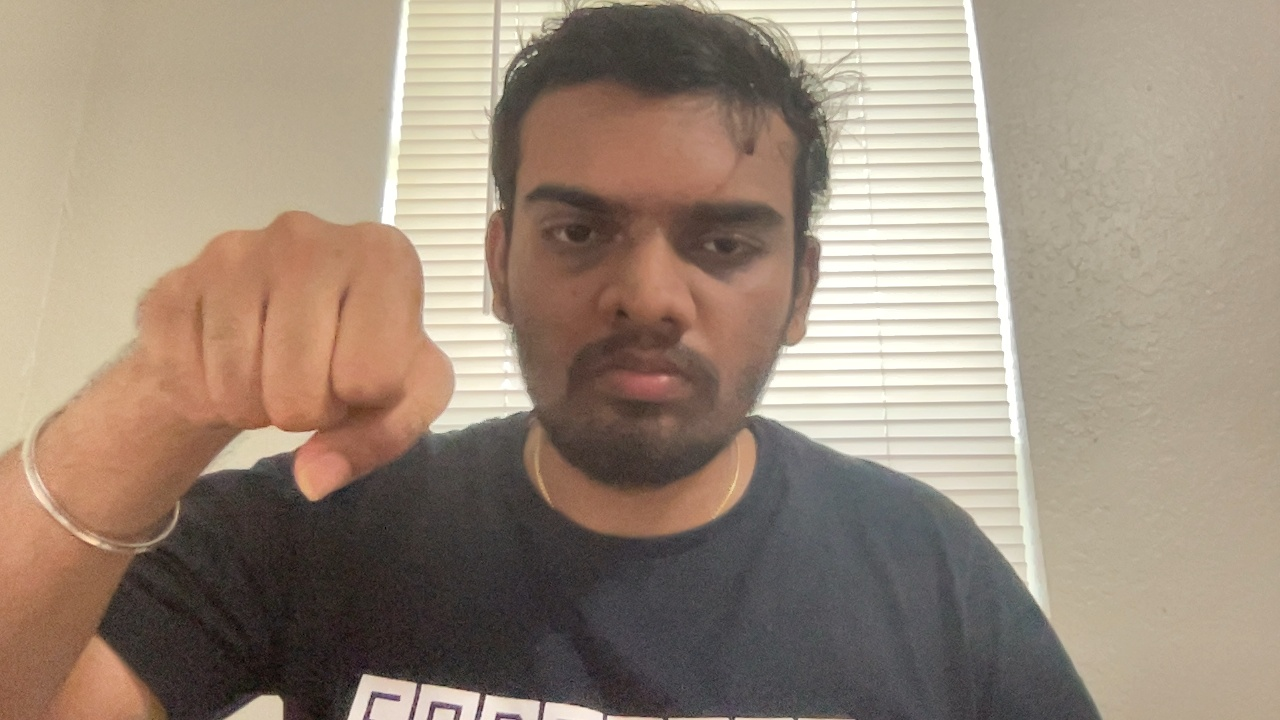yes: (103, 173, 485, 511)
